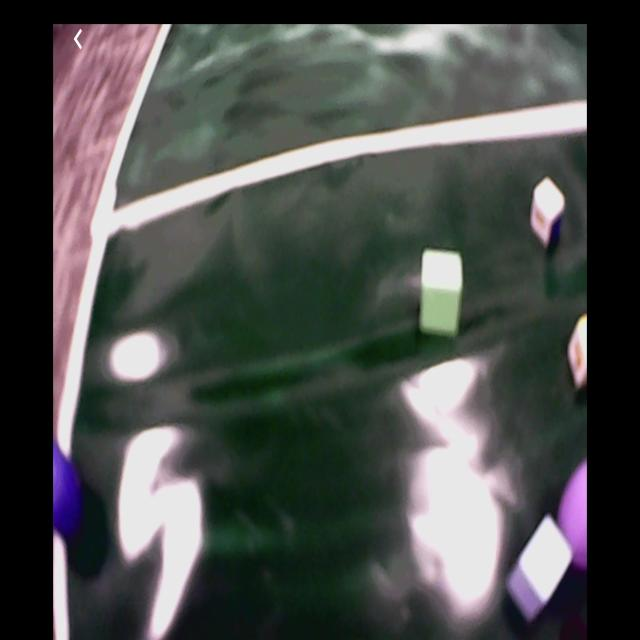ball: (558, 458, 587, 573), (55, 444, 79, 533)
